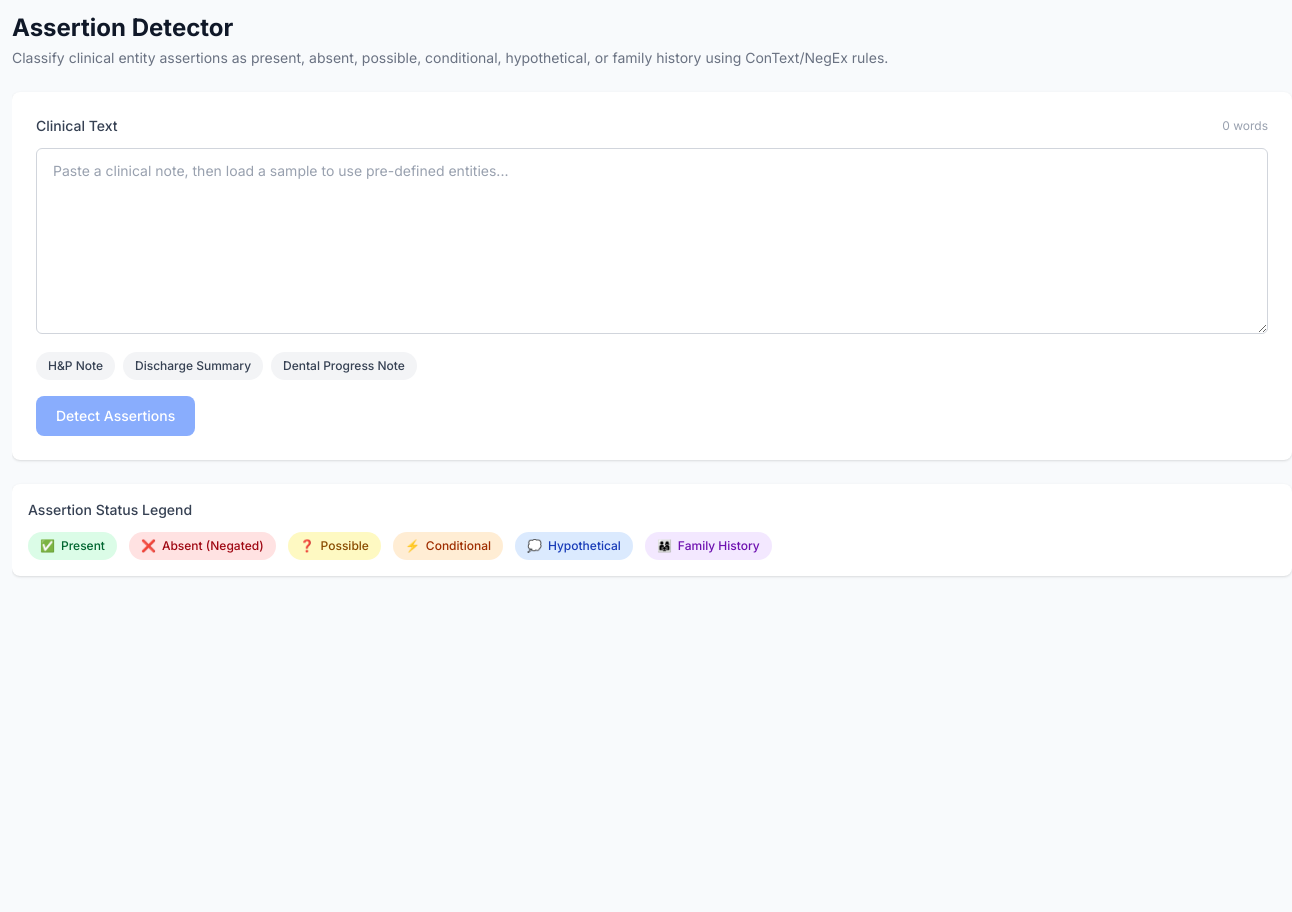
Test: AssertionDetector › API integration › displays error on API failure
The width and height of the screenshot is (1292, 912).
Click the button "Dental Progress Note": [344, 366] box top-left (271, 352), bottom-right (417, 380)
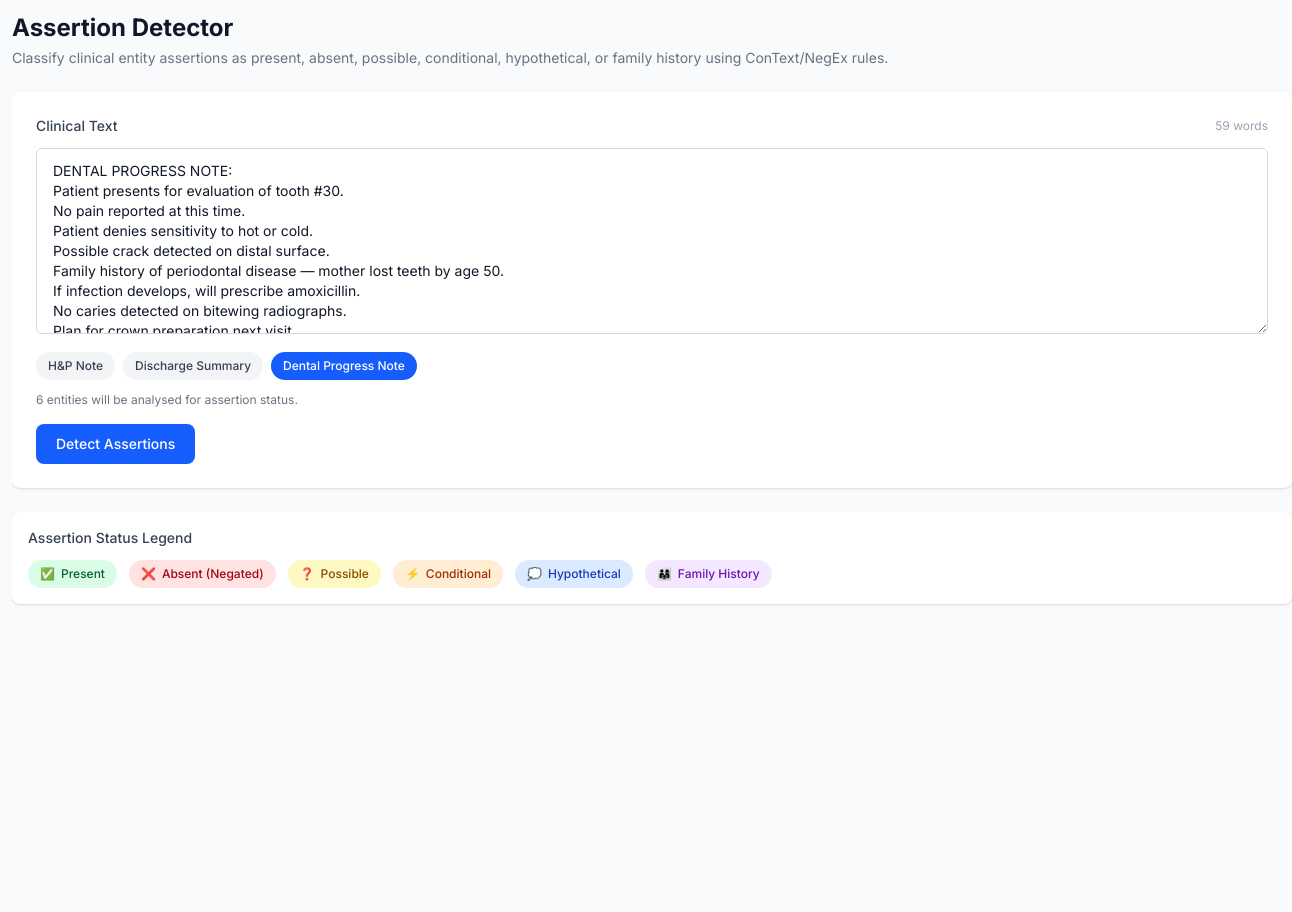
Click the button "Detect Assertions": [116, 444] box top-left (36, 424), bottom-right (195, 464)
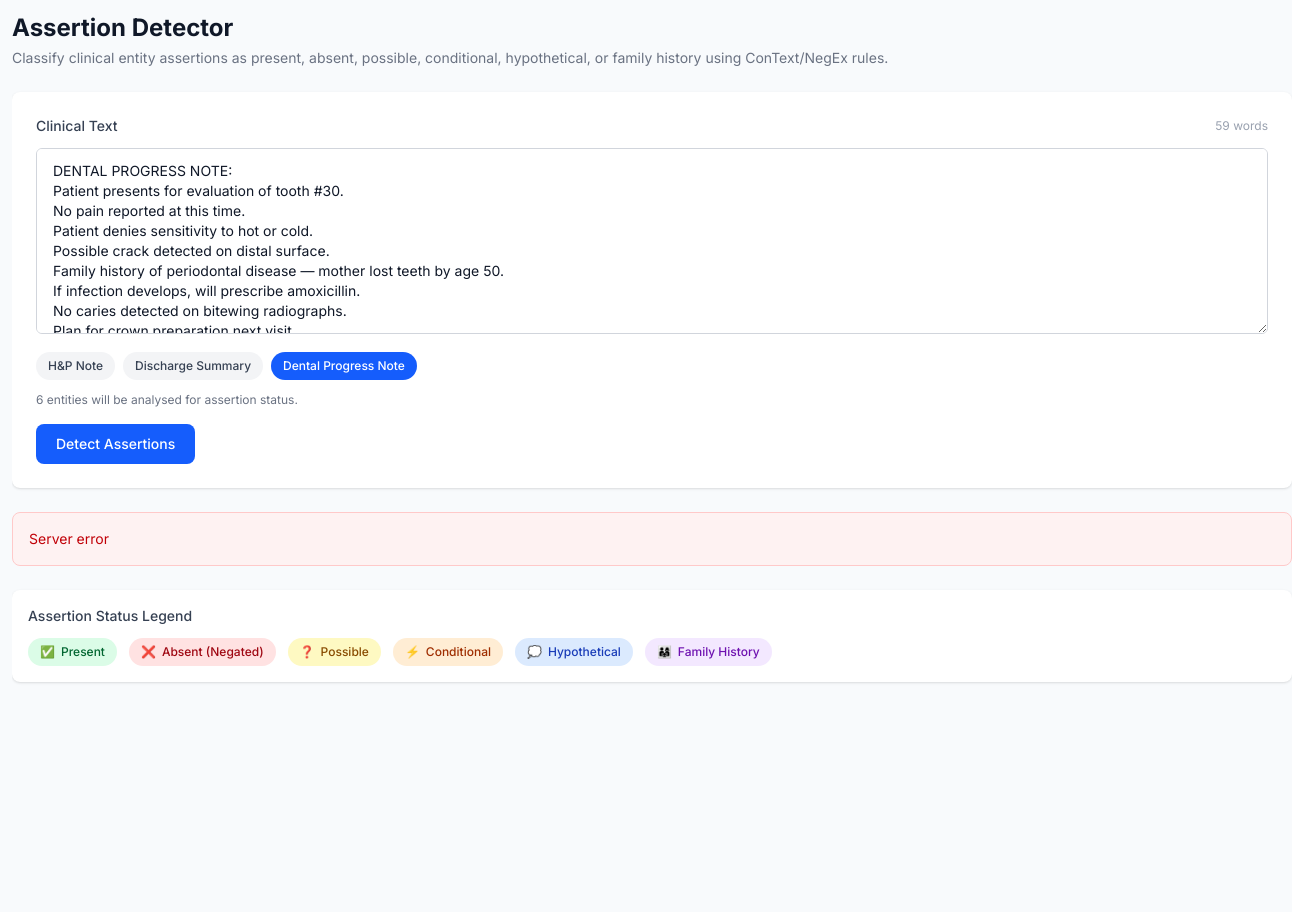
Expected: the text "Server error" is shown, top-left (29, 530), bottom-right (109, 547)
